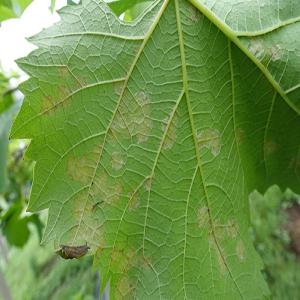Folha: (8, 0, 299, 298)
Fungo: (66, 176, 127, 256), (194, 199, 248, 270), (107, 90, 157, 148), (71, 139, 98, 183), (195, 126, 221, 158), (160, 110, 178, 150), (110, 248, 140, 269), (115, 64, 131, 102), (114, 274, 135, 300), (193, 205, 213, 232), (57, 83, 74, 112), (224, 213, 241, 239), (126, 188, 140, 212), (54, 58, 70, 78), (73, 72, 89, 92), (42, 90, 55, 114), (262, 138, 278, 157), (136, 252, 152, 271), (110, 150, 123, 170), (235, 241, 246, 262), (142, 173, 154, 192), (234, 126, 244, 146)
